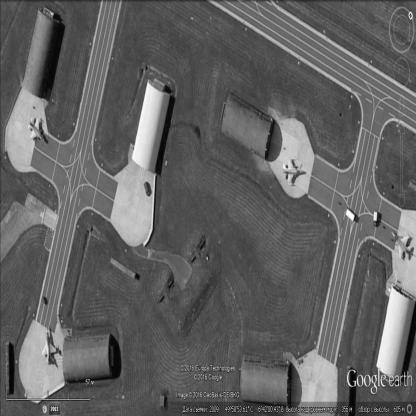F16: (392, 232, 414, 263), (283, 158, 305, 186), (43, 327, 57, 366), (28, 116, 46, 145)
